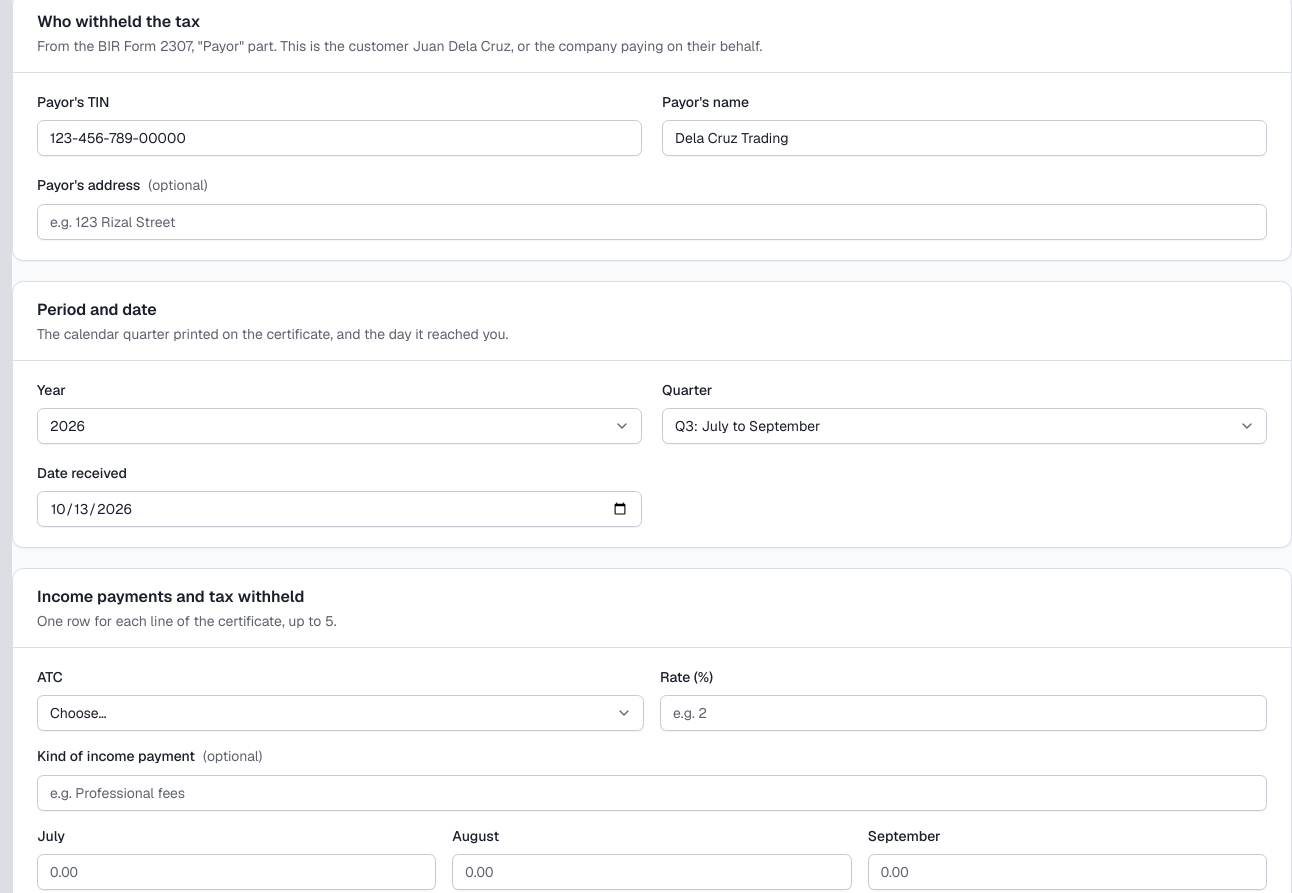
Test: the payments it covers › says when none of them fall in the quarter
Select "Q1: January to March" in the dropdown labelled "Quarter": {"x": 964, "y": 426} [662,408,1267,444]
(page scrolled)
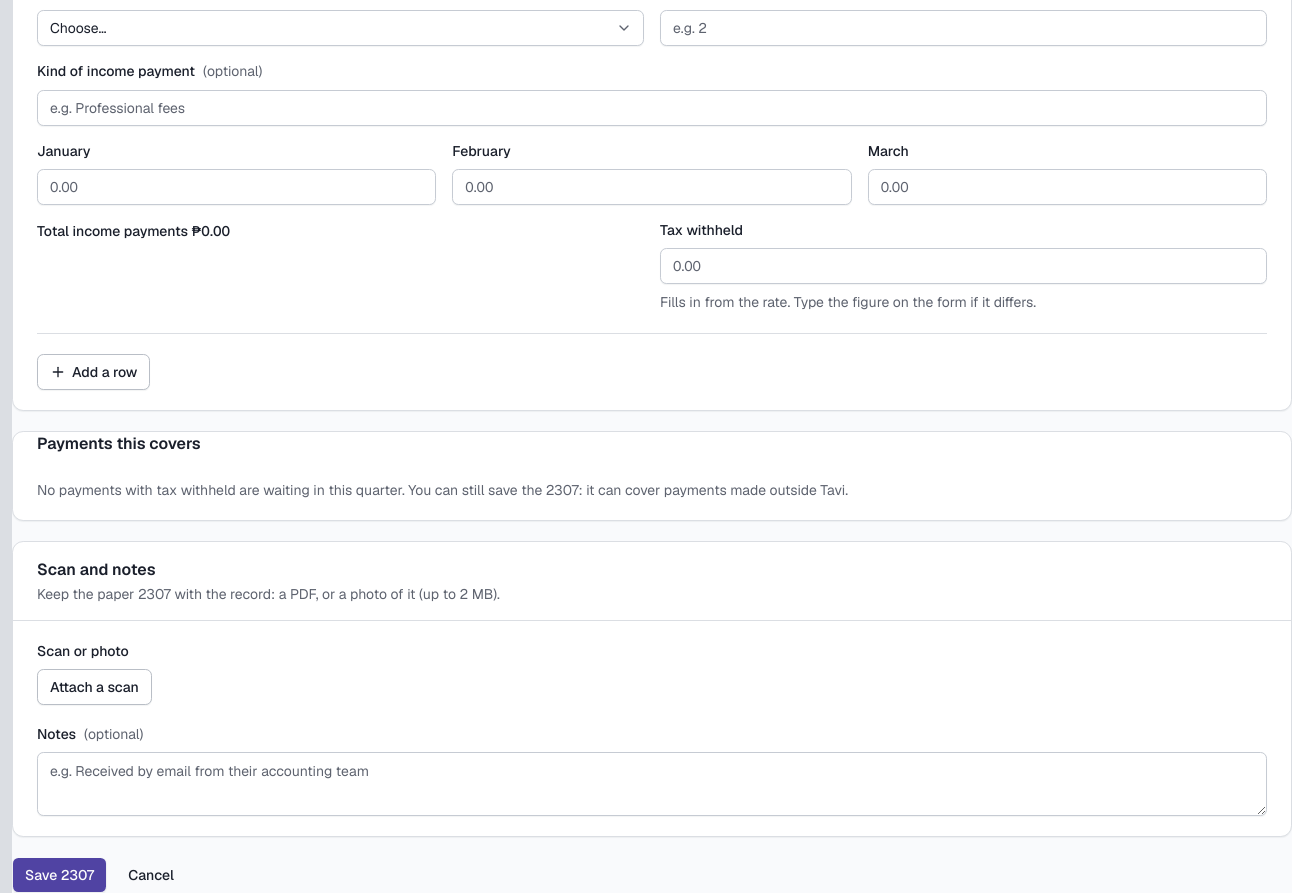
Result: the text "No payments with tax withheld are waiting in this quarter" is shown at [37,481,546,499]
